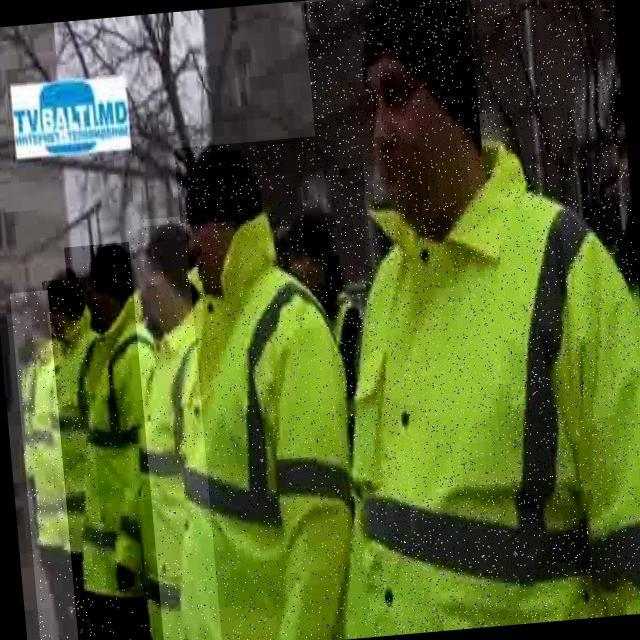Human: (303, 0, 640, 638), (173, 135, 364, 640), (125, 222, 222, 640), (63, 241, 164, 640), (41, 277, 112, 640), (9, 289, 79, 640)
Safety Vest: (301, 126, 640, 639), (140, 202, 371, 640), (88, 287, 231, 640), (56, 289, 173, 608), (38, 304, 113, 560), (14, 334, 75, 551)
